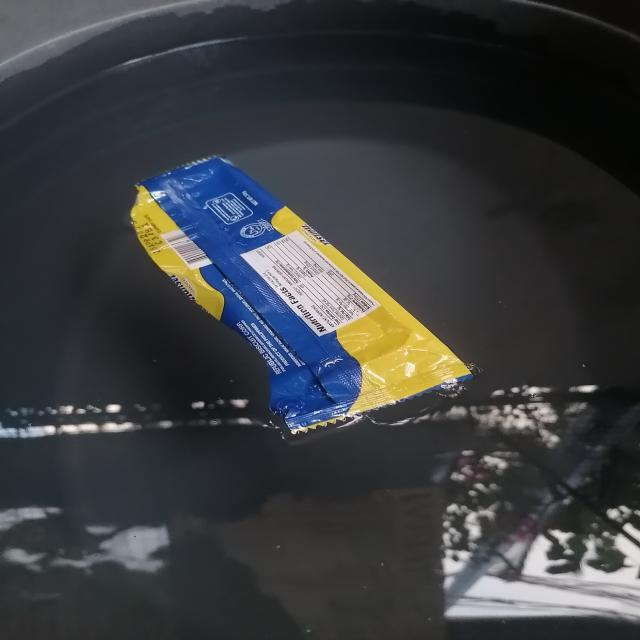Plastic Wrapper: (100, 131, 508, 450)
